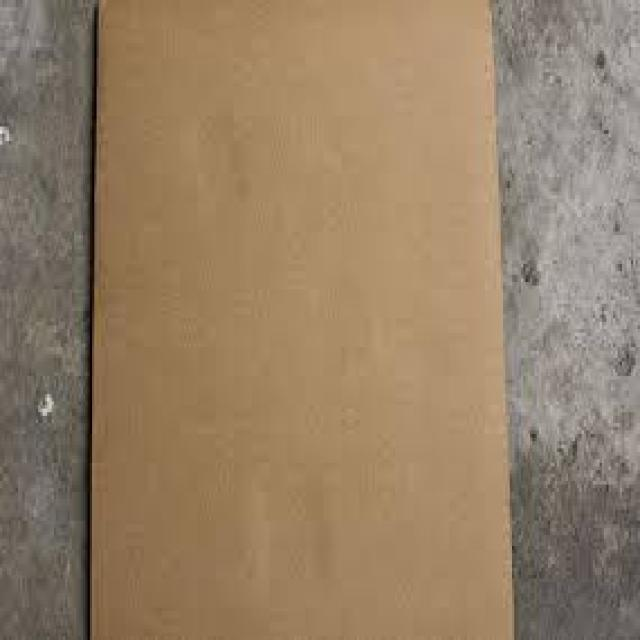cardboard: (87, 0, 512, 636)
